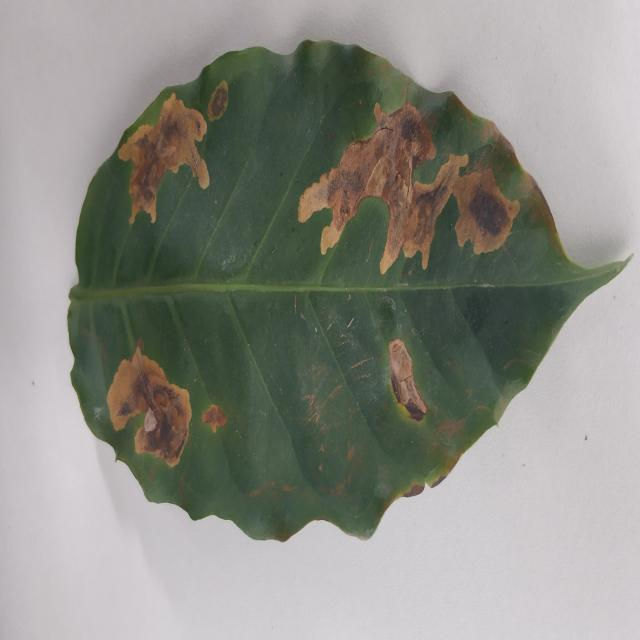Plaga-Minador: (67, 40, 629, 545)
